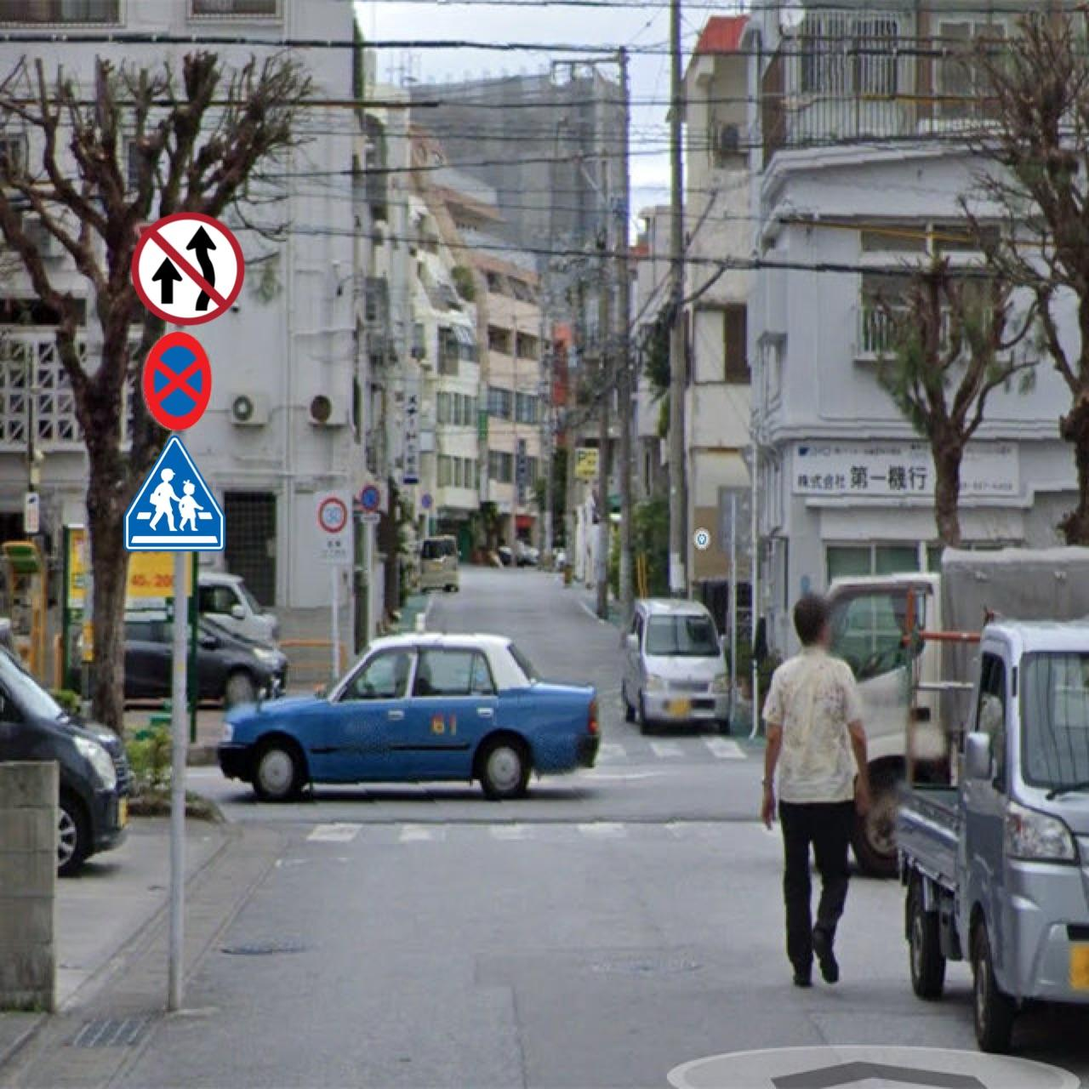cone: (15, 278, 237, 828)
stop_sign: (139, 336, 213, 429)
